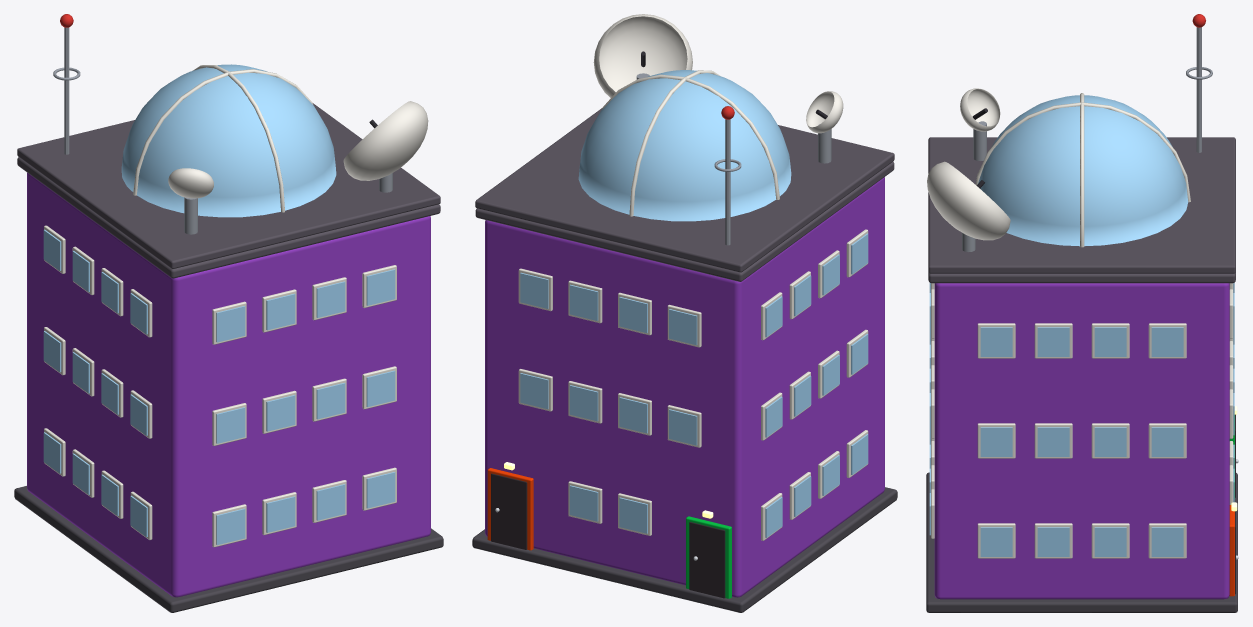
Rendered from building_research_center_t3.glb.
The picture shows the model from 3 angles, left to right: view 1: azimuth 30°, elevation 25°; view 2: azimuth 150°, elevation 25°; view 3: azimuth 270°, elevation 25°; orthographic projection.
Visible parts, largest first — view 1: Walls, Dome, Roof.Parapet, Plinth, Roof.Slab, Dish.Dish, Dish2.Dish, Dome.Rib, WinB1.Pane, WinB1.Pane.001, WinB0.Pane, WinB0.Pane.002 (+13 smaller); view 2: Walls, Dome, Roof.Parapet, Plinth, Dish.Dish, Roof.Slab, Entry.Leaf, Exit.Leaf, Dish2.Dish, Dome.Rib, Exit.Frame, Entry.Frame (+12 smaller); view 3: Walls, Dome, Roof.Parapet, Plinth, Dish.Dish, Roof.Slab, Dish2.Dish, Dome.Rib.001, WinR0.Pane, WinR0.Pane.001, WinR0.Pane.002, WinR0.Pane.003 (+24 smaller).
Part boxes in pixels (<box>): Walls: <box>27,172,430,597</box>; Dome: <box>121,64,336,217</box>; Roof.Parapet: <box>17,103,440,268</box>; Plinth: <box>14,486,443,612</box>; Roof.Slab: <box>17,157,440,278</box>; Dish.Dish: <box>343,101,428,180</box>; Dish2.Dish: <box>168,168,213,198</box>; Dome.Rib: <box>133,69,313,195</box>; WinB1.Pane: <box>216,407,245,443</box>; WinB1.Pane.001: <box>266,395,295,431</box>; WinB0.Pane: <box>216,508,245,545</box>; WinB0.Pane.002: <box>316,484,345,520</box>; Walls: <box>485,177,884,597</box>; Dome: <box>578,70,791,221</box>; Roof.Parapet: <box>475,108,894,272</box>; Plinth: <box>472,487,897,612</box>; Dish.Dish: <box>593,14,692,97</box>; Roof.Slab: <box>475,162,894,281</box>; Entry.Leaf: <box>689,522,725,598</box>; Exit.Leaf: <box>491,473,527,549</box>; Dish2.Dish: <box>806,91,843,133</box>; Dome.Rib: <box>601,74,779,199</box>; Exit.Frame: <box>487,468,533,550</box>; Entry.Frame: <box>686,516,731,598</box>; Walls: <box>934,283,1229,599</box>; Dome: <box>978,95,1188,246</box>; Roof.Parapet: <box>928,137,1235,273</box>; Plinth: <box>926,472,1237,612</box>; Dish.Dish: <box>927,161,1010,240</box>; Roof.Slab: <box>928,272,1235,283</box>; Dish2.Dish: <box>960,88,1000,131</box>; Dome.Rib.001: <box>975,102,1190,202</box>; WinR0.Pane: <box>980,527,1012,556</box>; WinR0.Pane.001: <box>1037,527,1069,556</box>; WinR0.Pane.002: <box>1094,527,1126,556</box>; WinR0.Pane.003: <box>1151,527,1183,556</box>.
Bounding box in the file's own units: 4.16 × 7.02 × 4.11.
